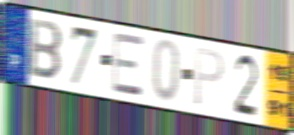0: (148, 37, 184, 106)
2: (233, 53, 261, 120)
7: (66, 23, 101, 87)
B: (27, 16, 65, 83)
E: (111, 32, 146, 100)
P: (192, 45, 226, 109)
